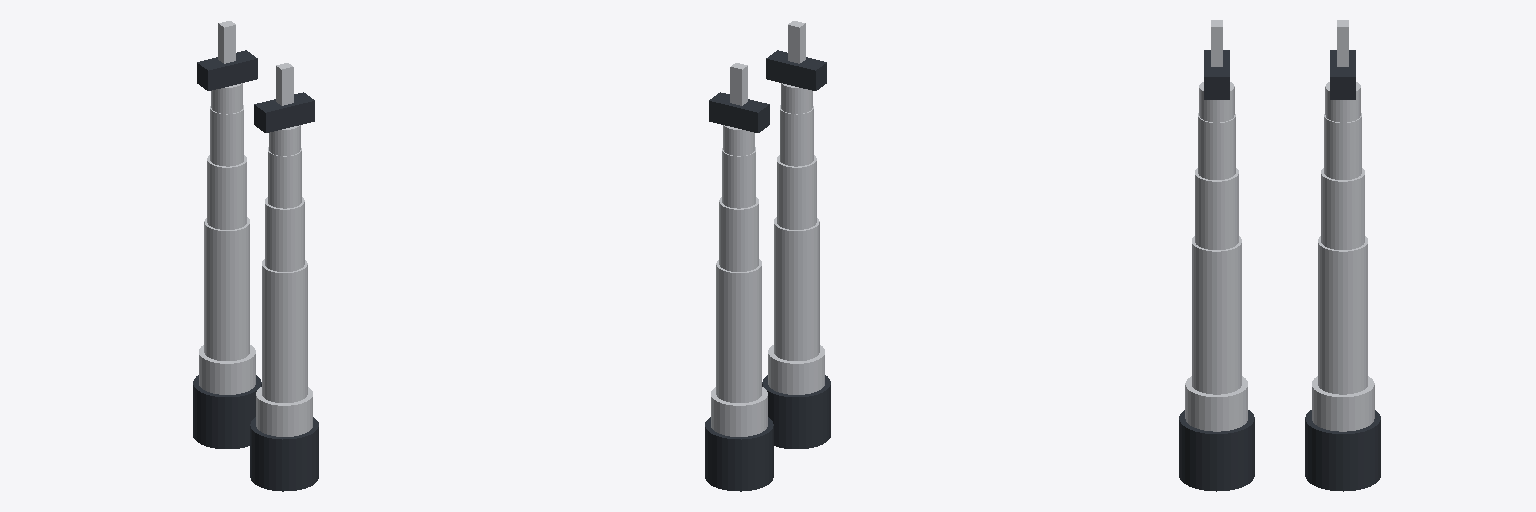
URDF robot description (clio_arm_6dof):
<?xml version="1.0"?>
<!--
  EXAMPLE ROBOT. clio_arm_6dof is made up for trying Clio's retargeting pipeline and viewer before a
  real robot is chosen. It is not a model of any product and has never been built.

  Two identical 6-DoF arms (about 0.6 m from the shoulder to the tool point) with parallel
  grippers, mounted at table height 0.2 m behind the table's near edge, where the person sits.
  The root link is the export robot frame at the table corner: x forward (away from the user),
  y left, z up.

  Each arm: shoulder pan (z), shoulder lift (y), elbow (y), wrist roll (z), wrist pitch (y) and
  wrist rotate (z), then a fixed tool frame <side>_tcp between the fingertips (+z out of the
  gripper, fingers open along x). All joints at 0 point the arm straight up. One prismatic finger
  per gripper is actuated; the other mimics it.

  The retargeting profile (profiles/clio-arm-6dof.json) places each base itself; the mounts below
  match it so the file renders the same way on its own.
-->
<robot name="clio_arm_6dof">
  <material name="clio_link"><color rgba="0.82 0.83 0.85 1"/></material>
  <material name="clio_base"><color rgba="0.25 0.27 0.30 1"/></material>

  <link name="table_corner"/>

  <!-- left arm -->
  <joint name="left_base_mount" type="fixed">
    <parent link="table_corner"/>
    <child link="left_base_link"/>
    <origin xyz="-0.2 -0.3 0" rpy="0 0 0"/>
  </joint>
  <link name="left_base_link">
    <visual>
      <origin xyz="0 0 0.05" rpy="0 0 0"/>
      <geometry><cylinder radius="0.06" length="0.1"/></geometry>
      <material name="clio_base"/>
    </visual>
  </link>
  <joint name="left_shoulder_pan" type="revolute">
    <parent link="left_base_link"/>
    <child link="left_shoulder_link"/>
    <origin xyz="0 0 0.1" rpy="0 0 0"/>
    <axis xyz="0 0 1"/>
    <limit lower="-2.97" upper="2.97" effort="30" velocity="2.5"/>
  </joint>
  <link name="left_shoulder_link">
    <visual>
      <origin xyz="0 0 0.03" rpy="0 0 0"/>
      <geometry><cylinder radius="0.05" length="0.06"/></geometry>
      <material name="clio_link"/>
    </visual>
  </link>
  <joint name="left_shoulder_lift" type="revolute">
    <parent link="left_shoulder_link"/>
    <child link="left_upper_arm_link"/>
    <origin xyz="0 0 0.06" rpy="0 0 0"/>
    <axis xyz="0 1 0"/>
    <limit lower="-2.0" upper="2.0" effort="30" velocity="2.5"/>
  </joint>
  <link name="left_upper_arm_link">
    <visual>
      <origin xyz="0 0 0.125" rpy="0 0 0"/>
      <geometry><cylinder radius="0.04" length="0.25"/></geometry>
      <material name="clio_link"/>
    </visual>
  </link>
  <joint name="left_elbow" type="revolute">
    <parent link="left_upper_arm_link"/>
    <child link="left_forearm_link"/>
    <origin xyz="0 0 0.25" rpy="0 0 0"/>
    <axis xyz="0 1 0"/>
    <limit lower="-2.6" upper="2.6" effort="20" velocity="3.0"/>
  </joint>
  <link name="left_forearm_link">
    <visual>
      <origin xyz="0 0 0.06" rpy="0 0 0"/>
      <geometry><cylinder radius="0.035" length="0.12"/></geometry>
      <material name="clio_link"/>
    </visual>
  </link>
  <joint name="left_wrist_roll" type="revolute">
    <parent link="left_forearm_link"/>
    <child link="left_wrist_1_link"/>
    <origin xyz="0 0 0.12" rpy="0 0 0"/>
    <axis xyz="0 0 1"/>
    <limit lower="-6.28" upper="6.28" effort="10" velocity="3.5"/>
  </joint>
  <link name="left_wrist_1_link">
    <visual>
      <origin xyz="0 0 0.05" rpy="0 0 0"/>
      <geometry><cylinder radius="0.03" length="0.1"/></geometry>
      <material name="clio_link"/>
    </visual>
  </link>
  <joint name="left_wrist_pitch" type="revolute">
    <parent link="left_wrist_1_link"/>
    <child link="left_wrist_2_link"/>
    <origin xyz="0 0 0.1" rpy="0 0 0"/>
    <axis xyz="0 1 0"/>
    <limit lower="-2.1" upper="2.1" effort="10" velocity="3.5"/>
  </joint>
  <link name="left_wrist_2_link">
    <visual>
      <origin xyz="0 0 0.025" rpy="0 0 0"/>
      <geometry><cylinder radius="0.028" length="0.05"/></geometry>
      <material name="clio_link"/>
    </visual>
  </link>
  <joint name="left_wrist_rotate" type="revolute">
    <parent link="left_wrist_2_link"/>
    <child link="left_flange"/>
    <origin xyz="0 0 0.05" rpy="0 0 0"/>
    <axis xyz="0 0 1"/>
    <limit lower="-6.28" upper="6.28" effort="5" velocity="4.0"/>
  </joint>
  <link name="left_flange"/>
  <joint name="left_gripper_mount" type="fixed">
    <parent link="left_flange"/>
    <child link="left_gripper_link"/>
    <origin xyz="0 0 0.02" rpy="0 0 0"/>
  </joint>
  <link name="left_gripper_link">
    <visual>
      <origin xyz="0 0 0.0" rpy="0 0 0"/>
      <geometry><box size="0.1 0.04 0.04"/></geometry>
      <material name="clio_base"/>
    </visual>
  </link>
  <joint name="left_tcp_joint" type="fixed">
    <parent link="left_gripper_link"/>
    <child link="left_tcp"/>
    <origin xyz="0 0 0.09" rpy="0 0 0"/>
  </joint>
  <link name="left_tcp"/>
  <joint name="left_finger_joint" type="prismatic">
    <parent link="left_gripper_link"/>
    <child link="left_finger_a_link"/>
    <origin xyz="0 0 0.02" rpy="0 0 0"/>
    <axis xyz="1 0 0"/>
    <limit lower="0" upper="0.04" effort="20" velocity="0.1"/>
  </joint>
  <link name="left_finger_a_link">
    <visual>
      <origin xyz="0.006 0 0.035" rpy="0 0 0"/>
      <geometry><box size="0.012 0.02 0.07"/></geometry>
      <material name="clio_link"/>
    </visual>
  </link>
  <joint name="left_finger_mirror_joint" type="prismatic">
    <parent link="left_gripper_link"/>
    <child link="left_finger_b_link"/>
    <origin xyz="0 0 0.02" rpy="0 0 0"/>
    <axis xyz="-1 0 0"/>
    <limit lower="0" upper="0.04" effort="20" velocity="0.1"/>
    <mimic joint="left_finger_joint" multiplier="1" offset="0"/>
  </joint>
  <link name="left_finger_b_link">
    <visual>
      <origin xyz="-0.006 0 0.035" rpy="0 0 0"/>
      <geometry><box size="0.012 0.02 0.07"/></geometry>
      <material name="clio_link"/>
    </visual>
  </link>

  <!-- right arm -->
  <joint name="right_base_mount" type="fixed">
    <parent link="table_corner"/>
    <child link="right_base_link"/>
    <origin xyz="-0.2 -0.5 0" rpy="0 0 0"/>
  </joint>
  <link name="right_base_link">
    <visual>
      <origin xyz="0 0 0.05" rpy="0 0 0"/>
      <geometry><cylinder radius="0.06" length="0.1"/></geometry>
      <material name="clio_base"/>
    </visual>
  </link>
  <joint name="right_shoulder_pan" type="revolute">
    <parent link="right_base_link"/>
    <child link="right_shoulder_link"/>
    <origin xyz="0 0 0.1" rpy="0 0 0"/>
    <axis xyz="0 0 1"/>
    <limit lower="-2.97" upper="2.97" effort="30" velocity="2.5"/>
  </joint>
  <link name="right_shoulder_link">
    <visual>
      <origin xyz="0 0 0.03" rpy="0 0 0"/>
      <geometry><cylinder radius="0.05" length="0.06"/></geometry>
      <material name="clio_link"/>
    </visual>
  </link>
  <joint name="right_shoulder_lift" type="revolute">
    <parent link="right_shoulder_link"/>
    <child link="right_upper_arm_link"/>
    <origin xyz="0 0 0.06" rpy="0 0 0"/>
    <axis xyz="0 1 0"/>
    <limit lower="-2.0" upper="2.0" effort="30" velocity="2.5"/>
  </joint>
  <link name="right_upper_arm_link">
    <visual>
      <origin xyz="0 0 0.125" rpy="0 0 0"/>
      <geometry><cylinder radius="0.04" length="0.25"/></geometry>
      <material name="clio_link"/>
    </visual>
  </link>
  <joint name="right_elbow" type="revolute">
    <parent link="right_upper_arm_link"/>
    <child link="right_forearm_link"/>
    <origin xyz="0 0 0.25" rpy="0 0 0"/>
    <axis xyz="0 1 0"/>
    <limit lower="-2.6" upper="2.6" effort="20" velocity="3.0"/>
  </joint>
  <link name="right_forearm_link">
    <visual>
      <origin xyz="0 0 0.06" rpy="0 0 0"/>
      <geometry><cylinder radius="0.035" length="0.12"/></geometry>
      <material name="clio_link"/>
    </visual>
  </link>
  <joint name="right_wrist_roll" type="revolute">
    <parent link="right_forearm_link"/>
    <child link="right_wrist_1_link"/>
    <origin xyz="0 0 0.12" rpy="0 0 0"/>
    <axis xyz="0 0 1"/>
    <limit lower="-6.28" upper="6.28" effort="10" velocity="3.5"/>
  </joint>
  <link name="right_wrist_1_link">
    <visual>
      <origin xyz="0 0 0.05" rpy="0 0 0"/>
      <geometry><cylinder radius="0.03" length="0.1"/></geometry>
      <material name="clio_link"/>
    </visual>
  </link>
  <joint name="right_wrist_pitch" type="revolute">
    <parent link="right_wrist_1_link"/>
    <child link="right_wrist_2_link"/>
    <origin xyz="0 0 0.1" rpy="0 0 0"/>
    <axis xyz="0 1 0"/>
    <limit lower="-2.1" upper="2.1" effort="10" velocity="3.5"/>
  </joint>
  <link name="right_wrist_2_link">
    <visual>
      <origin xyz="0 0 0.025" rpy="0 0 0"/>
      <geometry><cylinder radius="0.028" length="0.05"/></geometry>
      <material name="clio_link"/>
    </visual>
  </link>
  <joint name="right_wrist_rotate" type="revolute">
    <parent link="right_wrist_2_link"/>
    <child link="right_flange"/>
    <origin xyz="0 0 0.05" rpy="0 0 0"/>
    <axis xyz="0 0 1"/>
    <limit lower="-6.28" upper="6.28" effort="5" velocity="4.0"/>
  </joint>
  <link name="right_flange"/>
  <joint name="right_gripper_mount" type="fixed">
    <parent link="right_flange"/>
    <child link="right_gripper_link"/>
    <origin xyz="0 0 0.02" rpy="0 0 0"/>
  </joint>
  <link name="right_gripper_link">
    <visual>
      <origin xyz="0 0 0.0" rpy="0 0 0"/>
      <geometry><box size="0.1 0.04 0.04"/></geometry>
      <material name="clio_base"/>
    </visual>
  </link>
  <joint name="right_tcp_joint" type="fixed">
    <parent link="right_gripper_link"/>
    <child link="right_tcp"/>
    <origin xyz="0 0 0.09" rpy="0 0 0"/>
  </joint>
  <link name="right_tcp"/>
  <joint name="right_finger_joint" type="prismatic">
    <parent link="right_gripper_link"/>
    <child link="right_finger_a_link"/>
    <origin xyz="0 0 0.02" rpy="0 0 0"/>
    <axis xyz="1 0 0"/>
    <limit lower="0" upper="0.04" effort="20" velocity="0.1"/>
  </joint>
  <link name="right_finger_a_link">
    <visual>
      <origin xyz="0.006 0 0.035" rpy="0 0 0"/>
      <geometry><box size="0.012 0.02 0.07"/></geometry>
      <material name="clio_link"/>
    </visual>
  </link>
  <joint name="right_finger_mirror_joint" type="prismatic">
    <parent link="right_gripper_link"/>
    <child link="right_finger_b_link"/>
    <origin xyz="0 0 0.02" rpy="0 0 0"/>
    <axis xyz="-1 0 0"/>
    <limit lower="0" upper="0.04" effort="20" velocity="0.1"/>
    <mimic joint="right_finger_joint" multiplier="1" offset="0"/>
  </joint>
  <link name="right_finger_b_link">
    <visual>
      <origin xyz="-0.006 0 0.035" rpy="0 0 0"/>
      <geometry><box size="0.012 0.02 0.07"/></geometry>
      <material name="clio_link"/>
    </visual>
  </link>
</robot>

--- Facts derived from the render (not from the file) ---
3 views of the same robot in one strip: view 1: azimuth 30°, elevation 25°; view 2: azimuth 150°, elevation 25°; view 3: azimuth 270°, elevation 25° (orthographic).
Model clio_arm_6dof with 23 links and 22 joints (12 revolute, 4 prismatic, 6 fixed), rooted at table_corner, posed every joint at zero.
Links seen in each view (by area): view 1: left_upper_arm_link, right_upper_arm_link, right_base_link, left_base_link, left_forearm_link, right_forearm_link, right_shoulder_link, left_shoulder_link, left_wrist_1_link, right_wrist_1_link, left_gripper_link, right_gripper_link (+2 smaller); view 2: right_upper_arm_link, left_upper_arm_link, left_base_link, right_base_link, left_forearm_link, right_forearm_link, left_shoulder_link, right_shoulder_link, right_wrist_1_link, left_wrist_1_link, right_gripper_link, left_gripper_link (+2 smaller); view 3: left_upper_arm_link, right_upper_arm_link, left_base_link, right_base_link, left_forearm_link, right_forearm_link, left_shoulder_link, right_shoulder_link, left_wrist_1_link, right_wrist_1_link, left_gripper_link, right_gripper_link (+2 smaller).
Boxes of the visible links, x1=… form: left_upper_arm_link: x1=204, y1=217, x2=249, y2=360; right_upper_arm_link: x1=262, y1=259, x2=307, y2=402; right_base_link: x1=250, y1=417, x2=318, y2=491; left_base_link: x1=193, y1=375, x2=261, y2=448; left_forearm_link: x1=207, y1=155, x2=246, y2=229; right_forearm_link: x1=265, y1=197, x2=304, y2=271; right_shoulder_link: x1=256, y1=387, x2=312, y2=436; left_shoulder_link: x1=199, y1=345, x2=255, y2=394; left_wrist_1_link: x1=210, y1=105, x2=243, y2=166; right_wrist_1_link: x1=268, y1=147, x2=301, y2=208; left_gripper_link: x1=197, y1=50, x2=257, y2=90; right_gripper_link: x1=254, y1=92, x2=314, y2=132; right_upper_arm_link: x1=774, y1=217, x2=819, y2=360; left_upper_arm_link: x1=716, y1=259, x2=761, y2=402; left_base_link: x1=705, y1=417, x2=773, y2=491; right_base_link: x1=762, y1=375, x2=830, y2=448; left_forearm_link: x1=719, y1=197, x2=758, y2=271; right_forearm_link: x1=777, y1=155, x2=816, y2=229; left_shoulder_link: x1=711, y1=387, x2=767, y2=436; right_shoulder_link: x1=768, y1=345, x2=824, y2=394; right_wrist_1_link: x1=780, y1=105, x2=813, y2=166; left_wrist_1_link: x1=722, y1=147, x2=755, y2=208; right_gripper_link: x1=766, y1=50, x2=826, y2=90; left_gripper_link: x1=709, y1=92, x2=769, y2=132; left_upper_arm_link: x1=1318, y1=236, x2=1367, y2=394; right_upper_arm_link: x1=1192, y1=236, x2=1241, y2=394; left_base_link: x1=1305, y1=410, x2=1380, y2=491; right_base_link: x1=1179, y1=410, x2=1254, y2=491; left_forearm_link: x1=1321, y1=168, x2=1364, y2=249; right_forearm_link: x1=1195, y1=168, x2=1238, y2=249; left_shoulder_link: x1=1312, y1=376, x2=1374, y2=431; right_shoulder_link: x1=1185, y1=376, x2=1247, y2=431; left_wrist_1_link: x1=1324, y1=113, x2=1361, y2=179; right_wrist_1_link: x1=1198, y1=113, x2=1235, y2=179; left_gripper_link: x1=1330, y1=50, x2=1355, y2=99; right_gripper_link: x1=1204, y1=50, x2=1229, y2=99.
Bounding box of the posed robot: 0.12 × 0.32 × 0.79 m (x, y, z).
Geometry: primitives only (box / cylinder / sphere), no mesh files.
